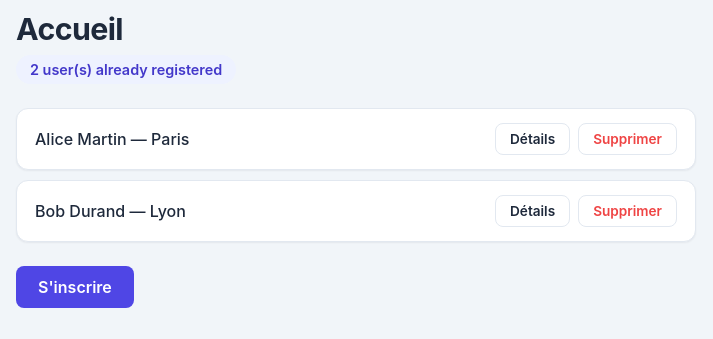
Test: HomePage › mode admin › affiche une erreur si la consultation des détails échoue
Click the button with test id "detail-1". click: (533, 139)
box: [495,123,570,155]
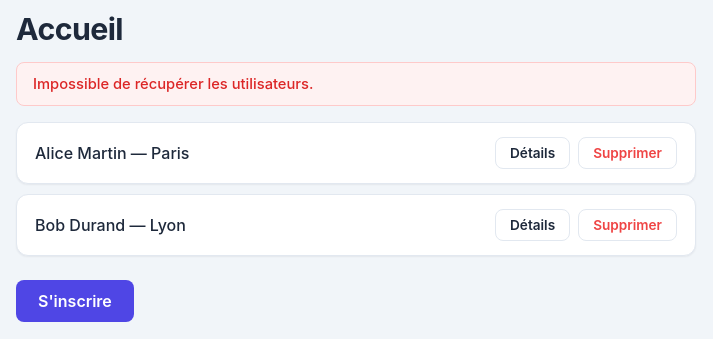
Now the message "Impossible de récupérer les utilisateurs." is shown, box [16,62,696,106]
